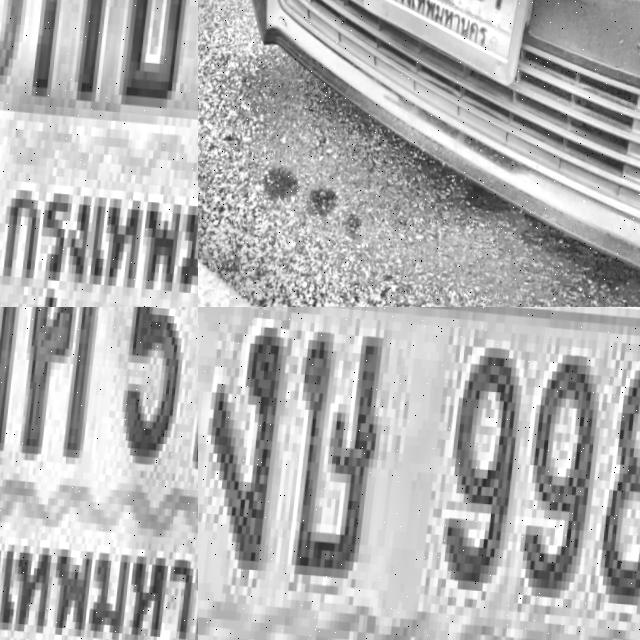license-plate: (198, 307, 640, 640), (0, 307, 198, 640), (0, 0, 198, 307), (355, 0, 551, 93)
